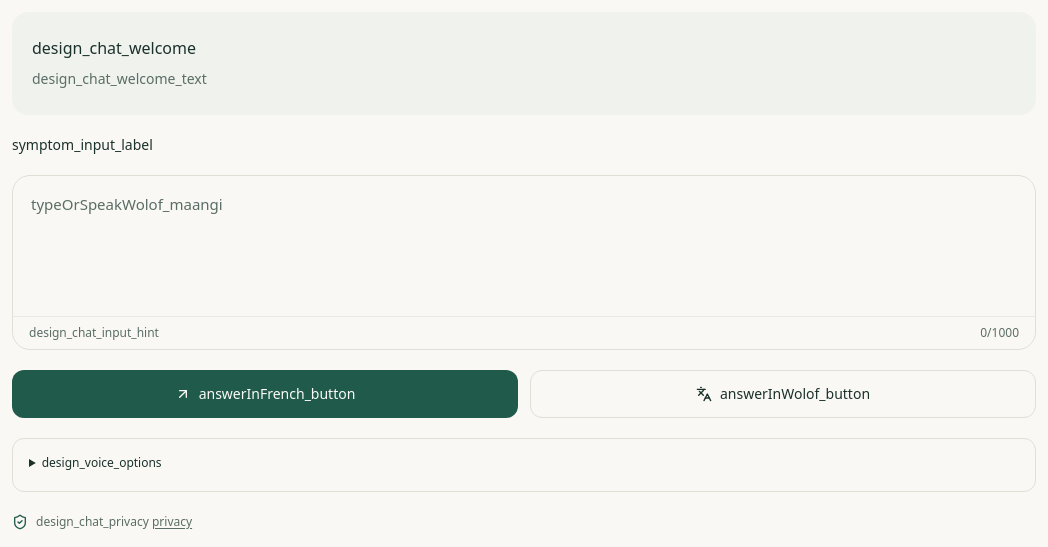
Test: AI conversation transport and language › shows a loading state while the API is pending
Type "Test symptoms" into the text box labelled "symptom_input_label".
click(524, 246); type("Test symptoms")  # box [13,176,1035,316]
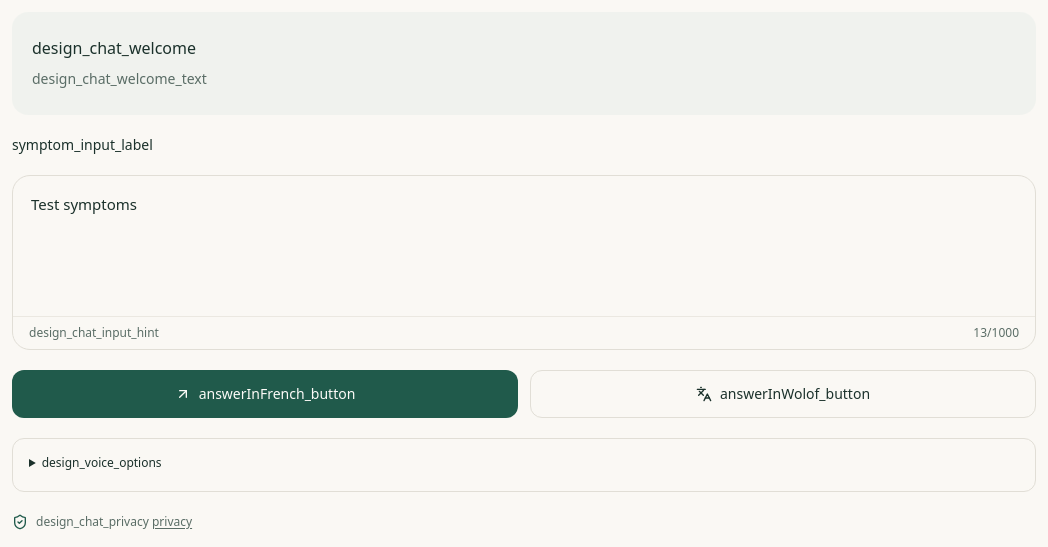
Click the button "answerInFrench_button".
click(265, 394)  # box [12,370,518,418]
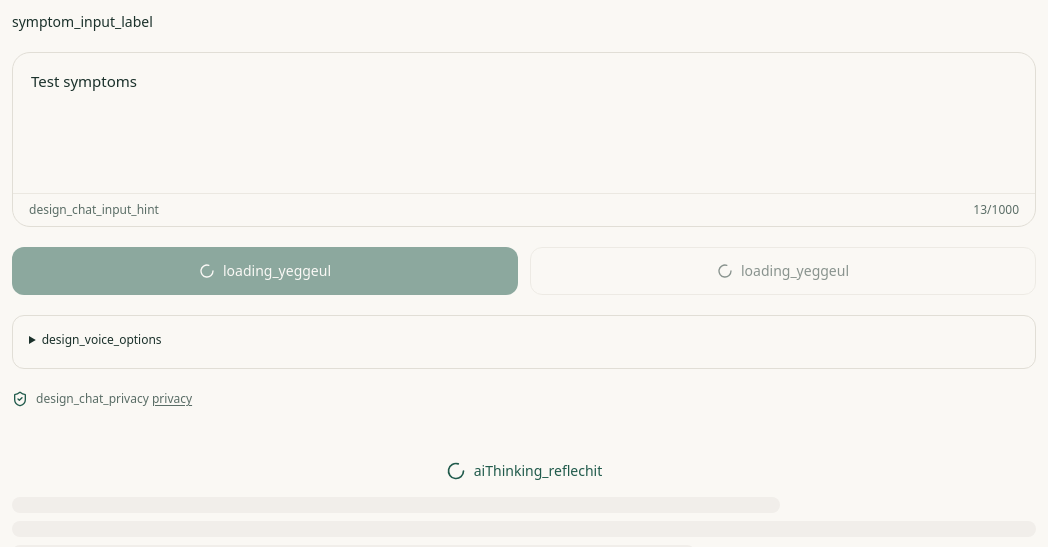
Check: the 1st button "loading_yeggeul" is shown, box [12,247,518,295]
